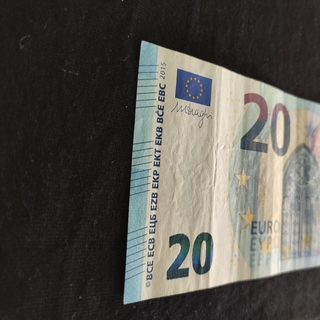20EUROFront: (121, 39, 320, 305)
